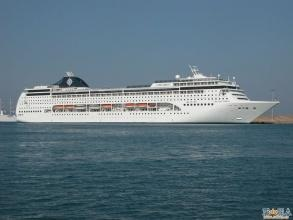youlun: (10, 69, 277, 125)
